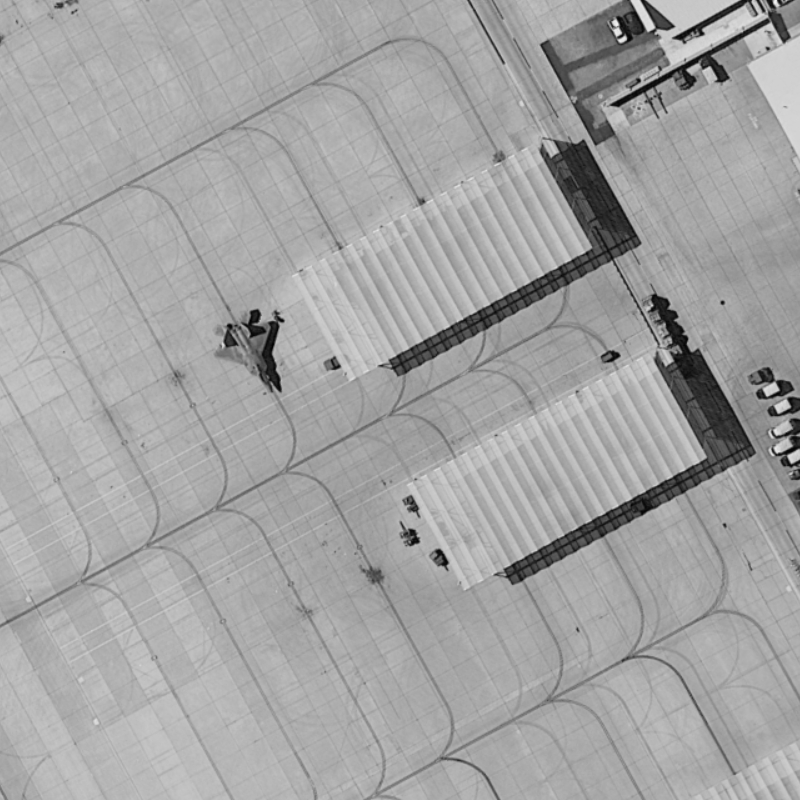A15: (202, 297, 289, 402)
